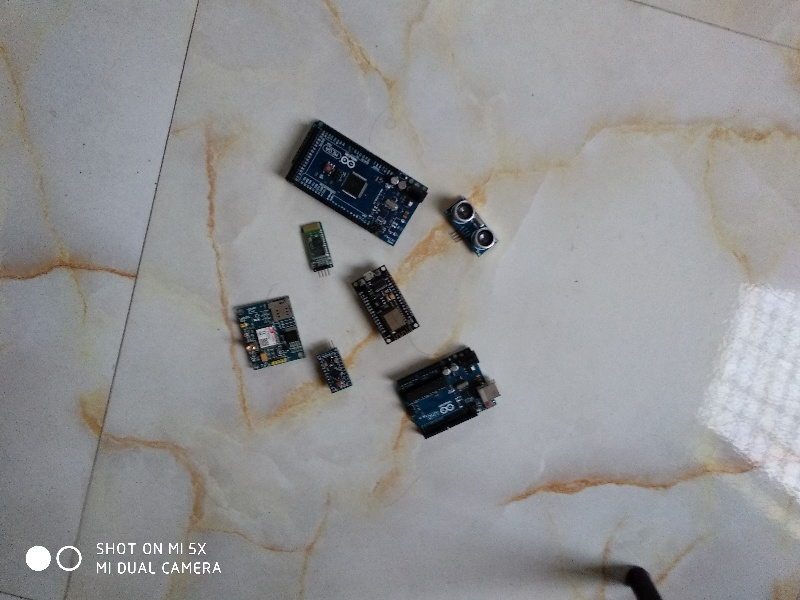Arduino Mega 2560: (282, 115, 431, 249)
Arduino Pro Mini: (307, 345, 357, 395)
Arduino UNO: (392, 346, 509, 443)
HC-05: (295, 218, 340, 276)
NodeMCU: (348, 261, 426, 347)
SIM800: (228, 292, 310, 376)
Sonar Sensor: (442, 192, 501, 260)
